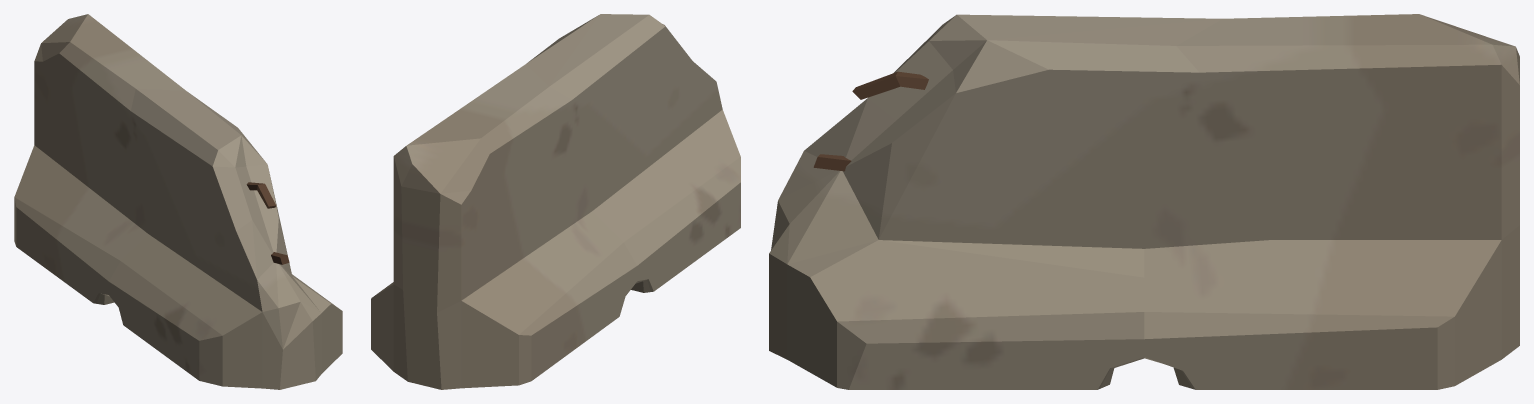
The model's file is SM_Prop_Barrier_04.glb.
3 renders of one model, left to right at view 1: azimuth 30°, elevation 25°; view 2: azimuth 150°, elevation 25°; view 3: azimuth 270°, elevation 25°, orthographic. The views are drawn at different scales.
Visible parts, largest first — view 1: SM_Prop_Barrier_04; view 2: SM_Prop_Barrier_04; view 3: SM_Prop_Barrier_04.
Part boxes in pixels (bbox=[...]): SM_Prop_Barrier_04: bbox=[14, 14, 342, 389]; SM_Prop_Barrier_04: bbox=[371, 14, 740, 389]; SM_Prop_Barrier_04: bbox=[769, 14, 1519, 389].
Bounding box in the file's own units: 0.7003 × 0.9544 × 2.1.
1 material, 1 textured.
